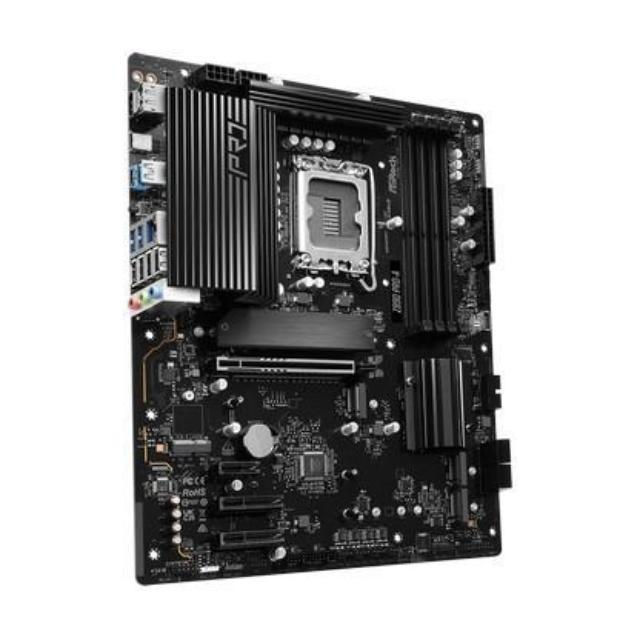Mainboard: (104, 34, 513, 598)
